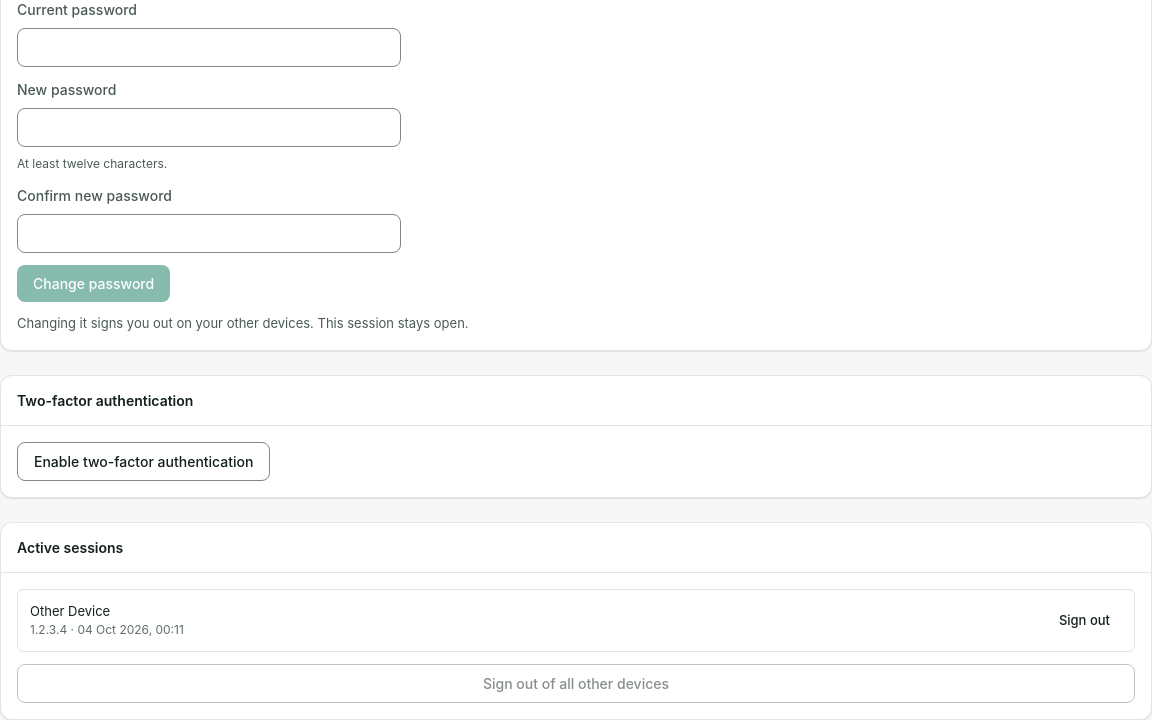
Test: SettingsPage session revoke flow › shows a success toast once a session is revoked
The width and height of the screenshot is (1152, 720).
(page scrolled)
Click the button "Sign out": [1084, 620] box top-left (1047, 602), bottom-right (1122, 638)
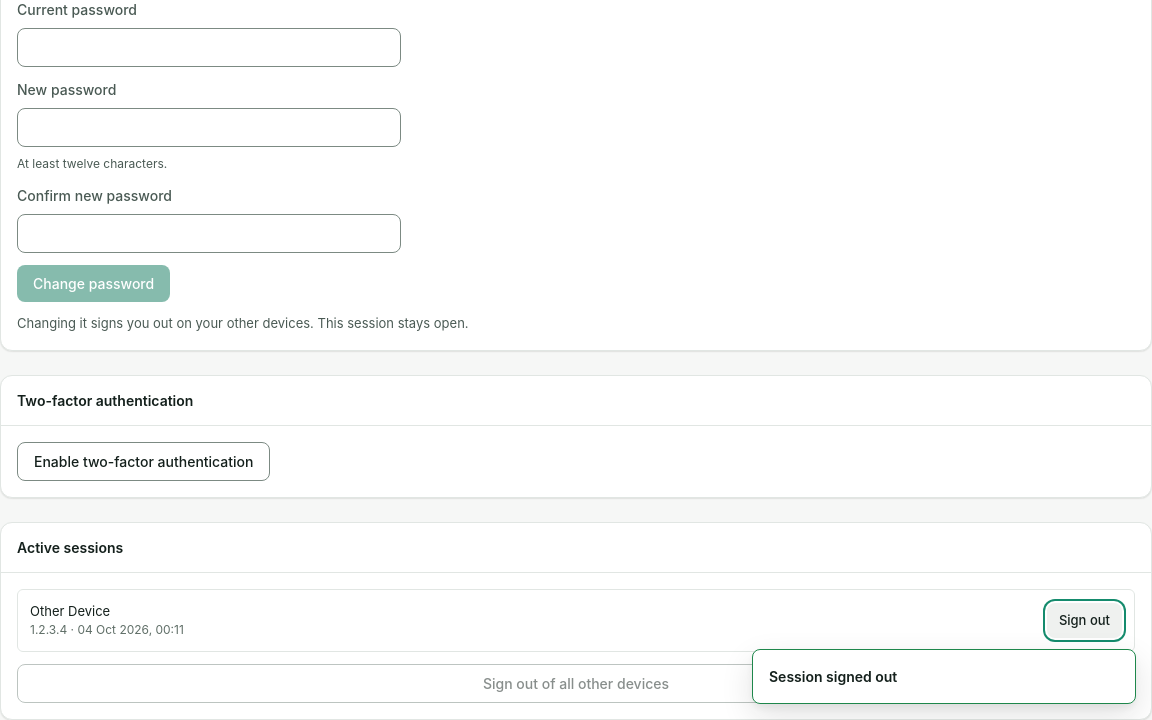
Expected: the text "Session signed out" is shown, top-left (769, 668), bottom-right (897, 685)
